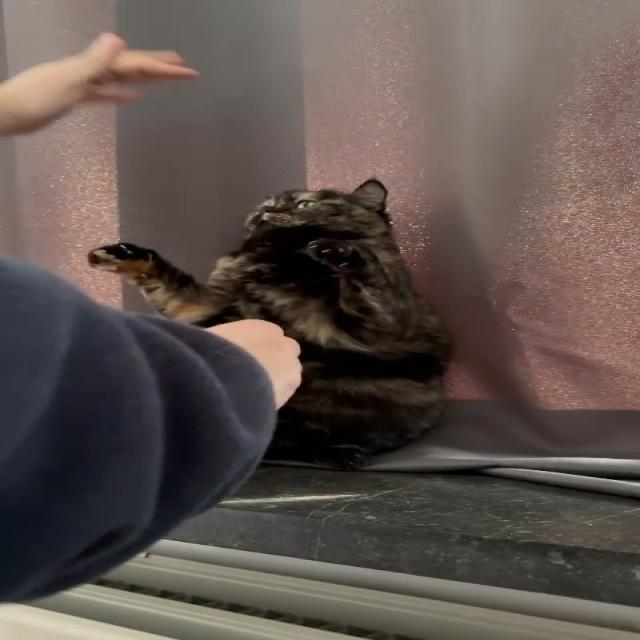authorized: (86, 177, 453, 471)
